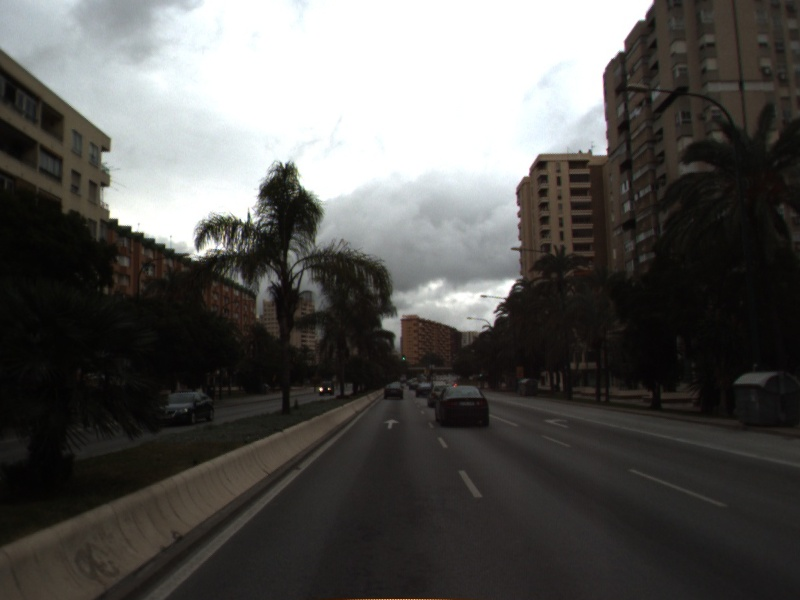RIGHT: (542, 415, 572, 430)
STRAIGHT: (381, 416, 402, 431)
